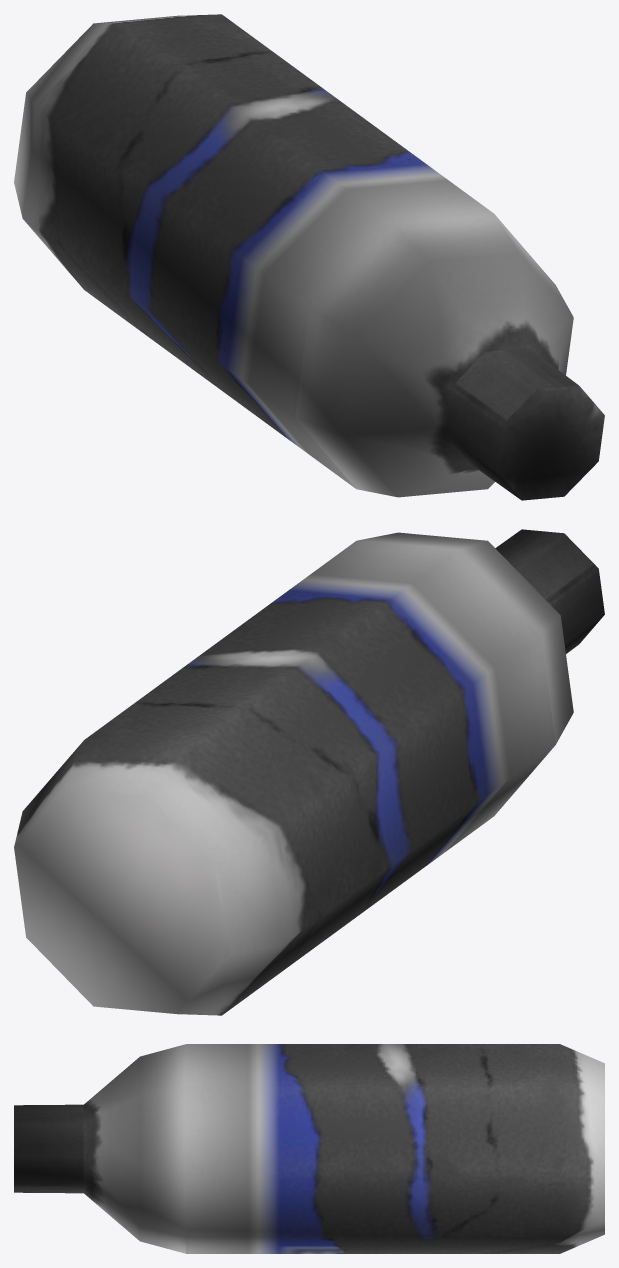
File: TLOG_BottleSuppressorVanila.fbx
3 renders of one model, top to bottom at view 1: azimuth 30°, elevation 25°; view 2: azimuth 150°, elevation 25°; view 3: azimuth 270°, elevation 25°, orthographic. The views are drawn at different scales.
Parts seen in each view (by area): view 1: EmptyWaterBottle; view 2: EmptyWaterBottle; view 3: EmptyWaterBottle.
Part boxes in pixels (left/top/right/bottom): EmptyWaterBottle: left=14, top=14, right=604, bottom=500; EmptyWaterBottle: left=14, top=529, right=604, bottom=1015; EmptyWaterBottle: left=14, top=1044, right=604, bottom=1253.
Bounding box in the file's own units: 0.0451 × 0.0451 × 0.1286.
